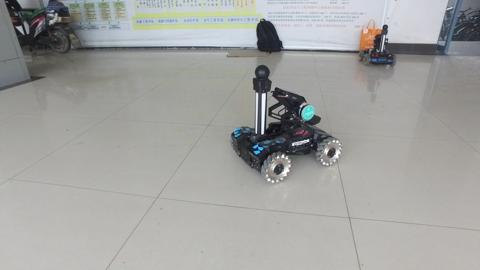bag: (253, 15, 285, 54), (358, 16, 383, 52)
chariot: (228, 63, 344, 184), (356, 23, 397, 67)
